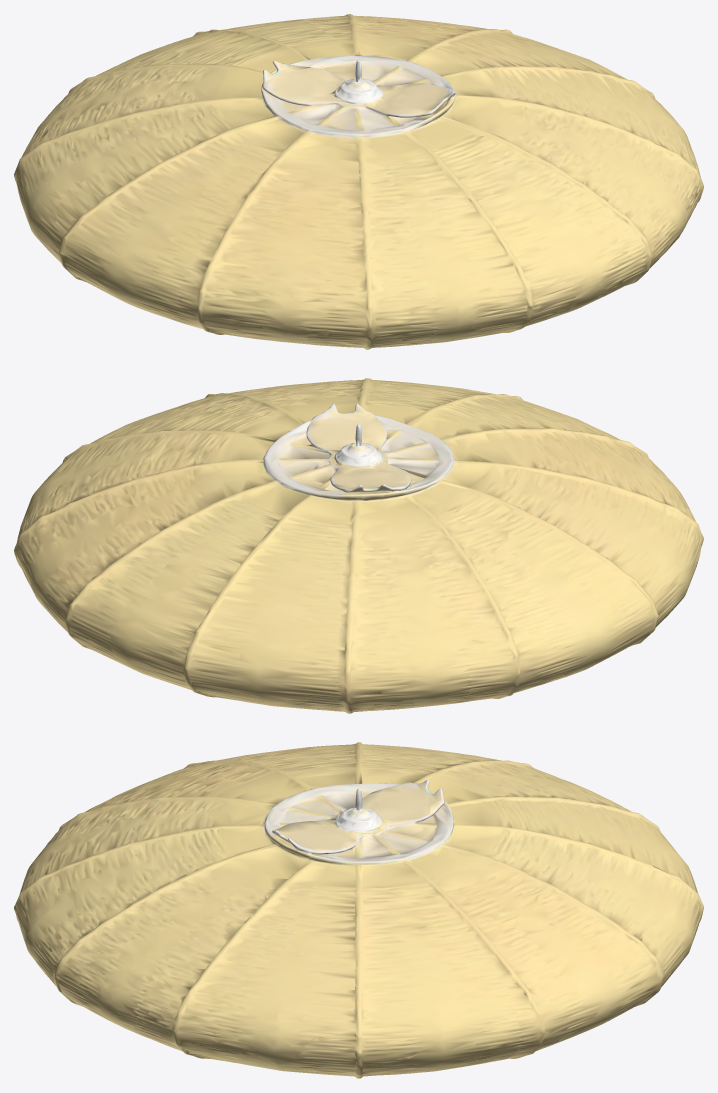
Rendered from ensui-d50.glb.
3 renders of one model, top to bottom at view 1: azimuth 30°, elevation 25°; view 2: azimuth 150°, elevation 25°; view 3: azimuth 270°, elevation 25°, orthographic.
Parts seen in each view (by area): view 1: tripo_node_8cf66d17-ff50-46bc-ba7d-8b79892d4cdf; view 2: tripo_node_8cf66d17-ff50-46bc-ba7d-8b79892d4cdf; view 3: tripo_node_8cf66d17-ff50-46bc-ba7d-8b79892d4cdf.
Part boxes in pixels (<box>): tripo_node_8cf66d17-ff50-46bc-ba7d-8b79892d4cdf: <box>14,14,703,349</box>; tripo_node_8cf66d17-ff50-46bc-ba7d-8b79892d4cdf: <box>14,378,703,713</box>; tripo_node_8cf66d17-ff50-46bc-ba7d-8b79892d4cdf: <box>14,742,703,1078</box>.
Bounding box in the file's own units: 0.5 × 0.17 × 0.4995.
1 material, 1 textured.
